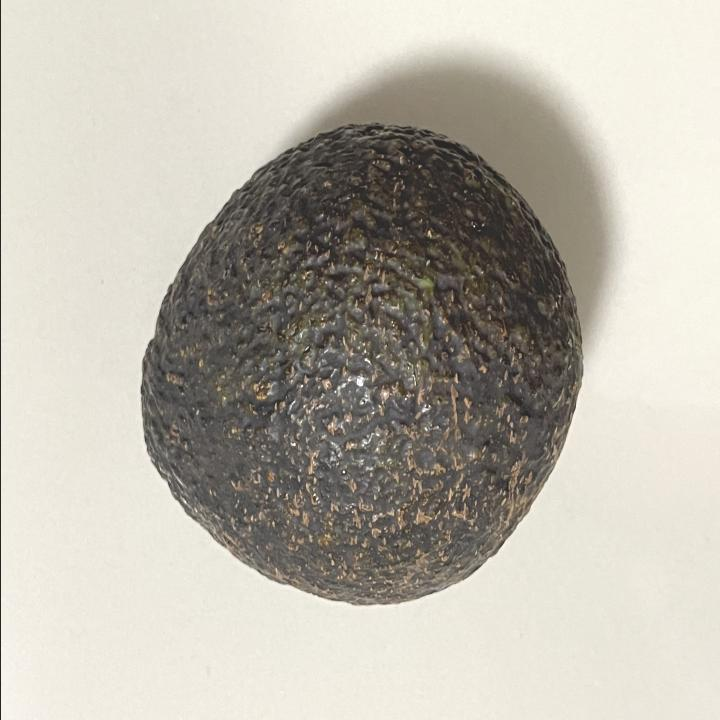Level2: (132, 118, 590, 615)
